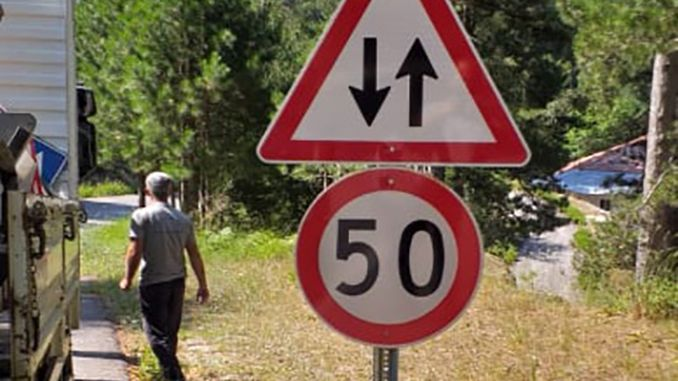50 Km Hiz Siniri: (287, 169, 474, 344)
